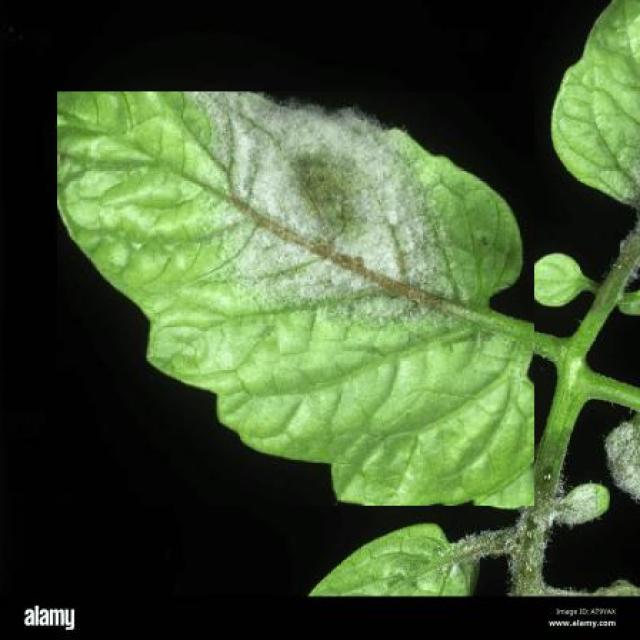Late Blight: (57, 91, 534, 506)
